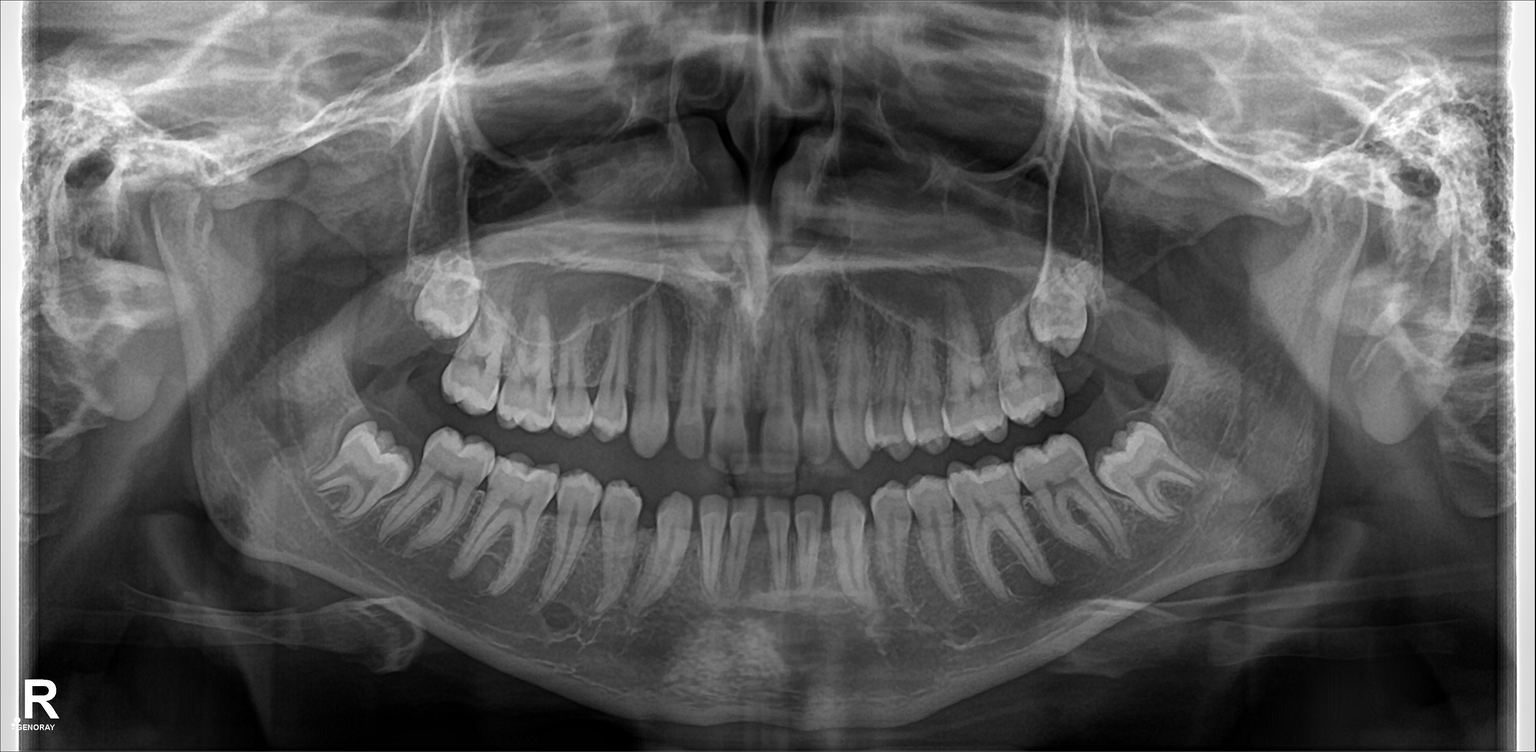Impacted Third Molar: (313, 439, 411, 520), (1106, 432, 1193, 518), (410, 257, 475, 341), (1022, 283, 1091, 344)
